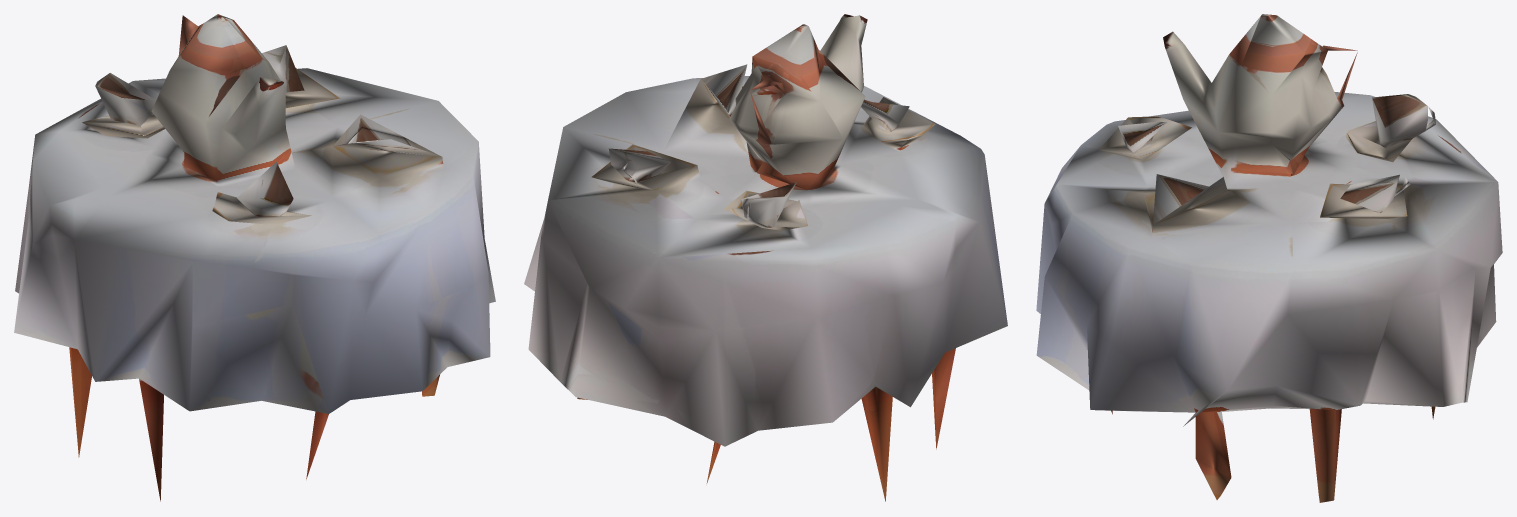
File: tea_table.glb
3 renders of one model, left to right at view 1: azimuth 30°, elevation 25°; view 2: azimuth 150°, elevation 25°; view 3: azimuth 270°, elevation 25°, orthographic. The views are drawn at different scales.
Parts seen in each view (by area): view 1: tripo_node_b5a1c2b3-3cfb-46c5-9156-3fdf4a0fe601; view 2: tripo_node_b5a1c2b3-3cfb-46c5-9156-3fdf4a0fe601; view 3: tripo_node_b5a1c2b3-3cfb-46c5-9156-3fdf4a0fe601.
Boxes of the visible parts, bbox=[...] form: tripo_node_b5a1c2b3-3cfb-46c5-9156-3fdf4a0fe601: bbox=[14, 14, 495, 501]; tripo_node_b5a1c2b3-3cfb-46c5-9156-3fdf4a0fe601: bbox=[524, 14, 1007, 501]; tripo_node_b5a1c2b3-3cfb-46c5-9156-3fdf4a0fe601: bbox=[1036, 14, 1502, 502].
Bounding box in the file's own units: 0.9387 × 0.9506 × 0.9434.
1 material, 1 textured.
